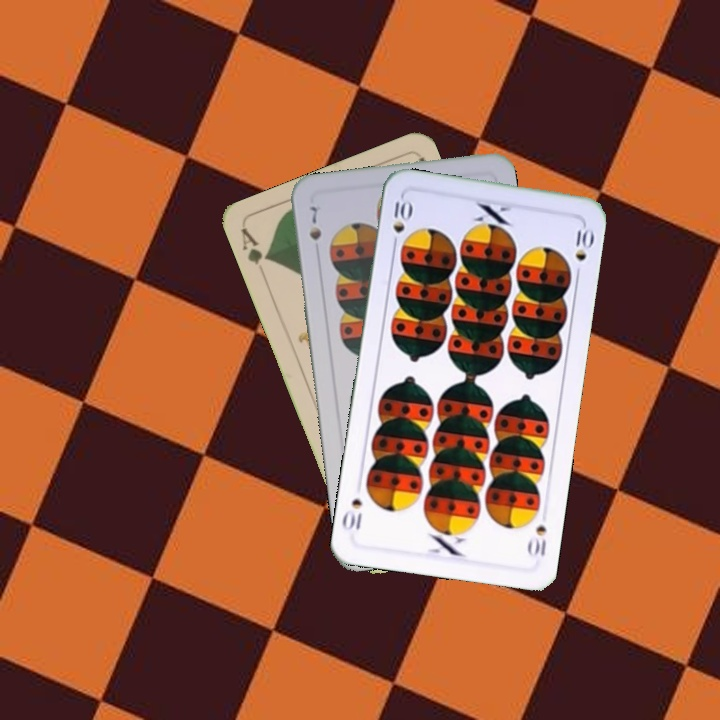GA: (236, 225, 272, 268)
S10: (388, 193, 413, 252), (524, 521, 549, 559)
S7: (305, 199, 324, 243)
